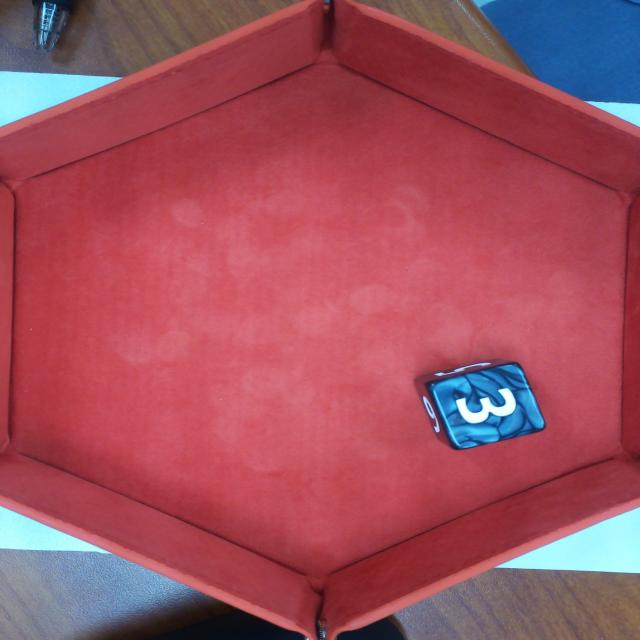dice: (424, 361, 552, 455)
